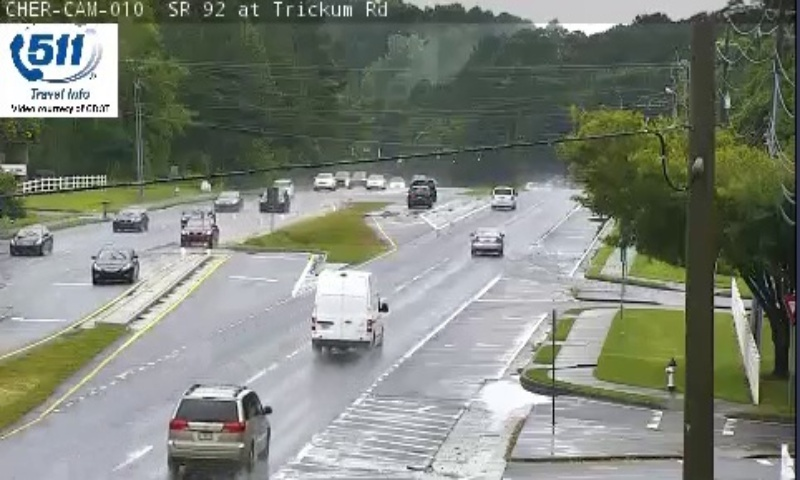car: (169, 387, 270, 461), (471, 229, 501, 254), (491, 185, 516, 207)
van: (313, 270, 383, 348)
